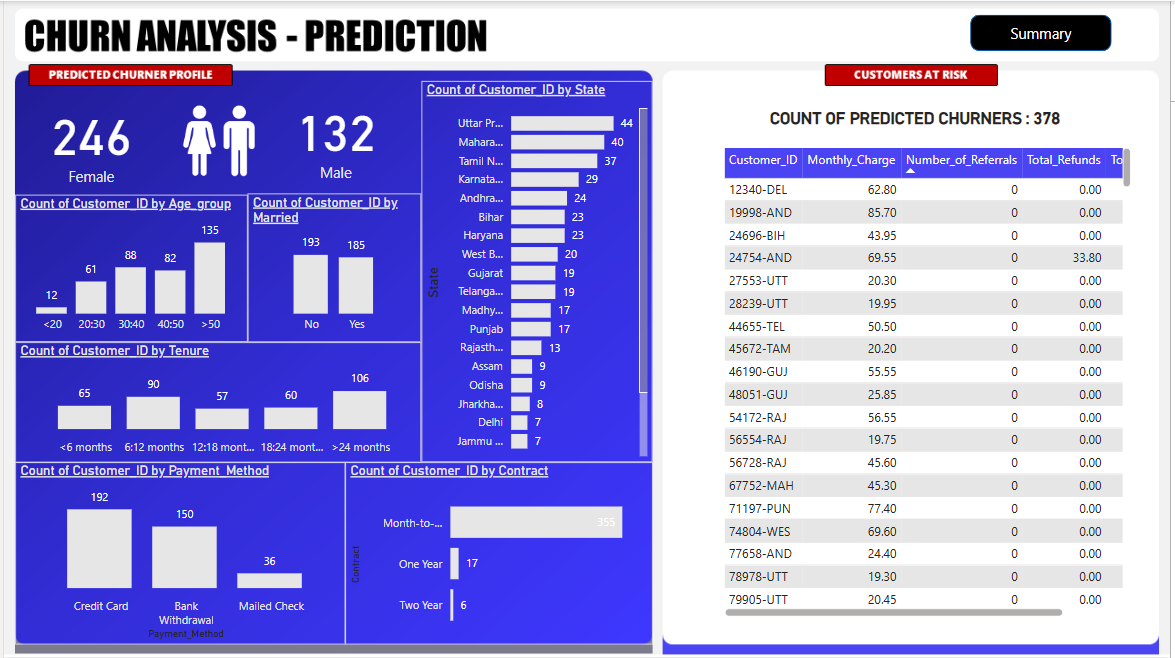

What the dashboard file says about the page in this screenshot:
{"tool":"powerbi","page":{"name":"Chrun_Pridiction","canvas":[1280,720],"ordinal":2},"visuals":[{"type":"card","fields":{"Values":["Tbl_Measures.Count Predicted Churner"]},"box":[12.3,98.8,167.4,109.8],"z":0},{"type":"card","fields":{"Values":["Tbl_Measures.Title Predicted Churners"]},"box":[784.9,101.5,430.9,54.9],"z":1000},{"type":"tableEx","fields":{"Values":["Predictions.Customer_ID","Predictions.Monthly_Charge","Predictions.Number_of_Referrals","Predictions.Total_Refunds","Predictions.Total_Revenue"]},"box":[784.9,156.4,456.9,524.2],"z":2000},{"type":"card","fields":{"Values":["Tbl_Measures.Count Predicted Churner"]},"box":[275.8,90.6,177,118],"z":3000},{"type":"clusteredColumnChart","fields":{"Category":["Mapping_age.Age_group"],"Y":["CountNonNull(Predictions.Customer_ID)"]},"box":[12.3,212.7,255.2,161.9],"z":4000},{"type":"clusteredColumnChart","fields":{"Category":["Predictions.Married"],"Y":["CountNonNull(Predictions.Customer_ID)"]},"box":[267.6,211.3,190.7,163.3],"z":5000},{"type":"clusteredColumnChart","fields":{"Category":["Mapping_Tenure.Tenure"],"Y":["CountNonNull(Predictions.Customer_ID)"]},"box":[12.3,374.6,446,131.7],"z":6000},{"type":"clusteredColumnChart","fields":{"Category":["Predictions.Payment_Method"],"Y":["CountNonNull(Predictions.Customer_ID)"]},"box":[12.3,506.3,362.3,200.3],"z":7000},{"type":"clusteredBarChart","fields":{"Category":["Predictions.Contract"],"Y":["CountNonNull(Predictions.Customer_ID)"]},"box":[374.6,506.3,337.6,200.3],"z":8000},{"type":"clusteredBarChart","fields":{"Category":["Predictions.State"],"Y":["CountNonNull(Predictions.Customer_ID)"]},"box":[458.3,87.8,253.9,418.5],"z":9000},{"type":"image","box":[142.7,98.8,186.6,108.4],"z":10000},{"type":"shape","box":[1060.7,15.1,155.1,39.8],"z":11000}]}

Visuals, with their boxes in screenshot pixels (x1, y1, x2, y2), scaled from the page's 1280x720 canvas onto the 1175x658 screenshot:
card - Tbl_Measures.Count Predicted Churner: (11,90,165,191)
card - Tbl_Measures.Title Predicted Churners: (721,93,1116,143)
tableEx - Predictions.Customer_ID x Predictions.Monthly_Charge: (721,143,1140,622)
card - Tbl_Measures.Count Predicted Churner: (253,83,416,191)
clusteredColumnChart - Mapping_age.Age_group x CountNonNull(Predictions.Customer_ID): (11,194,246,342)
clusteredColumnChart - Predictions.Married x CountNonNull(Predictions.Customer_ID): (246,193,421,342)
clusteredColumnChart - Mapping_Tenure.Tenure x CountNonNull(Predictions.Customer_ID): (11,342,421,463)
clusteredColumnChart - Predictions.Payment_Method x CountNonNull(Predictions.Customer_ID): (11,463,344,646)
clusteredBarChart - Predictions.Contract x CountNonNull(Predictions.Customer_ID): (344,463,654,646)
clusteredBarChart - Predictions.State x CountNonNull(Predictions.Customer_ID): (421,80,654,463)
image: (131,90,302,189)
shape: (974,14,1116,50)
